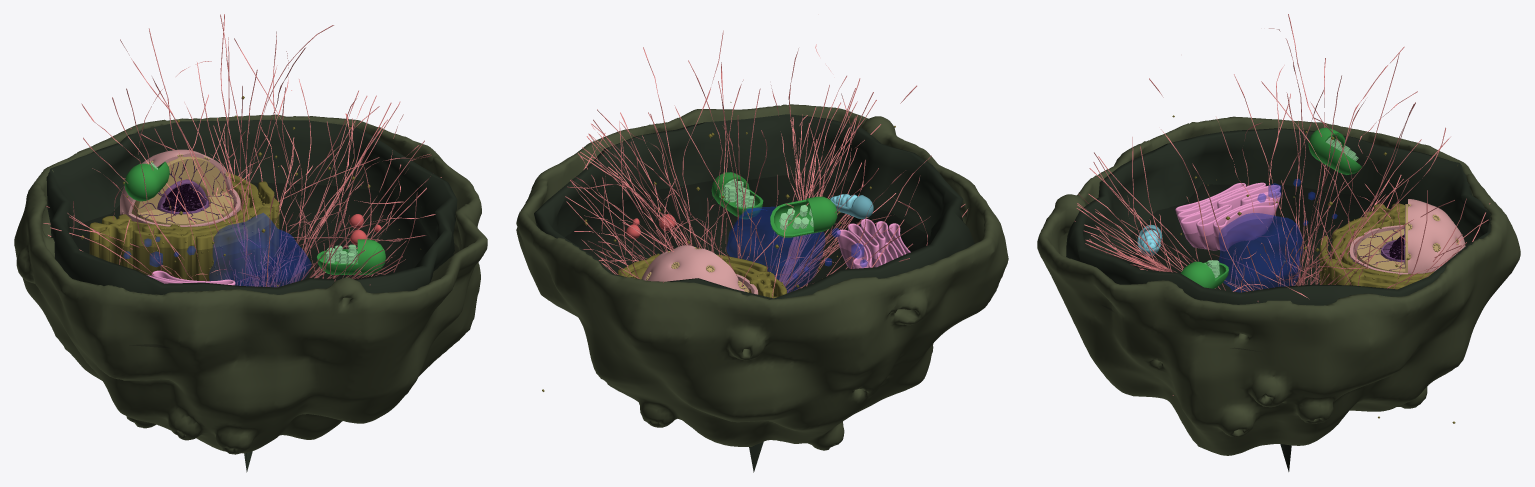
The model's file is cell.glb.
The picture shows the model from 3 angles, left to right: view 1: azimuth 30°, elevation 25°; view 2: azimuth 150°, elevation 25°; view 3: azimuth 270°, elevation 25°; orthographic projection. The views are drawn at different scales.
Parts seen in each view (by area): view 1: cell_wall, lipid_bilayer, cytoskeleton, Disc, rough_smooth_er, central_vacuole_, Nucleus_2, Icosphere, Boole_1, Boole, Nucleolus_2, chromatin (+2 smaller); view 2: cell_wall, lipid_bilayer, cytoskeleton, Disc, central_vacuole_, Icosphere, golgi, Boole, rough_smooth_er, Boole_1, Cloner_1, Sphere_002 (+1 smaller); view 3: cell_wall, lipid_bilayer, cytoskeleton, Disc, central_vacuole_, golgi, rough_smooth_er, Icosphere, Nucleus_2, Boole, Boole_1.
Part boxes in pixels (x1=…): cell_wall: x1=14, y1=114, x2=487, y2=454; lipid_bilayer: x1=46, y1=120, x2=457, y2=472; cytoskeleton: x1=43, y1=14, x2=441, y2=286; Disc: x1=73, y1=183, x2=458, y2=347; rough_smooth_er: x1=89, y1=172, x2=280, y2=281; central_vacuole_: x1=209, y1=213, x2=311, y2=286; Nucleus_2: x1=131, y1=156, x2=233, y2=225; Icosphere: x1=120, y1=149, x2=240, y2=226; Boole_1: x1=316, y1=239, x2=385, y2=274; Boole: x1=124, y1=161, x2=169, y2=201; Nucleolus_2: x1=162, y1=184, x2=201, y2=211; chromatin: x1=139, y1=159, x2=232, y2=223; cell_wall: x1=516, y1=104, x2=1008, y2=450; lipid_bilayer: x1=534, y1=114, x2=974, y2=472; cytoskeleton: x1=565, y1=30, x2=967, y2=297; Disc: x1=565, y1=174, x2=928, y2=296; central_vacuole_: x1=726, y1=207, x2=824, y2=292; Icosphere: x1=641, y1=245, x2=758, y2=294; golgi: x1=836, y1=219, x2=910, y2=268; Boole: x1=770, y1=196, x2=837, y2=237; rough_smooth_er: x1=618, y1=253, x2=786, y2=298; Boole_1: x1=711, y1=172, x2=763, y2=219; Cloner_1: x1=723, y1=179, x2=754, y2=207; Sphere_002: x1=830, y1=195, x2=873, y2=218; cell_wall: x1=1037, y1=116, x2=1520, y2=455; lipid_bilayer: x1=1066, y1=128, x2=1490, y2=471; cytoskeleton: x1=1074, y1=14, x2=1490, y2=395; Disc: x1=1102, y1=184, x2=1403, y2=350; central_vacuole_: x1=1218, y1=213, x2=1302, y2=292; golgi: x1=1175, y1=182, x2=1281, y2=250; rough_smooth_er: x1=1318, y1=203, x2=1434, y2=289; Icosphere: x1=1350, y1=199, x2=1465, y2=275; Nucleus_2: x1=1357, y1=204, x2=1438, y2=272; Boole: x1=1308, y1=127, x2=1361, y2=174; Boole_1: x1=1180, y1=261, x2=1228, y2=288.
Bounding box in the file's own units: 8.63 × 8.62 × 8.94.
